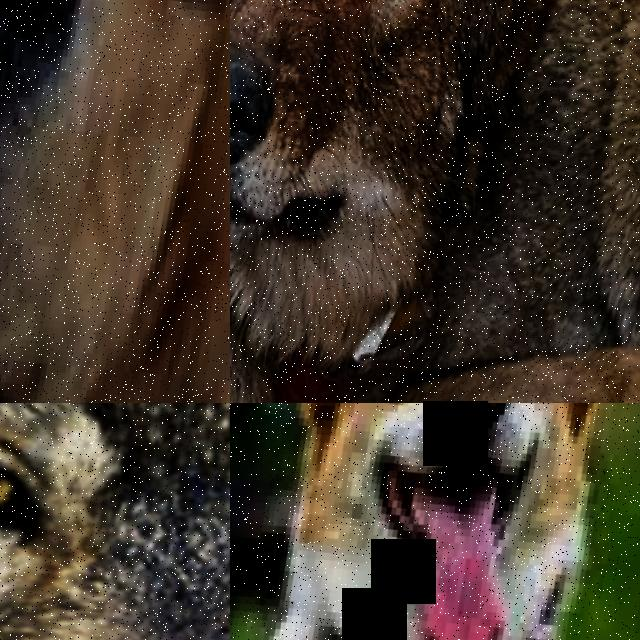dog: (230, 403, 640, 640), (0, 0, 230, 403)
wolf: (230, 0, 640, 403), (396, 0, 640, 403), (0, 403, 230, 640)
